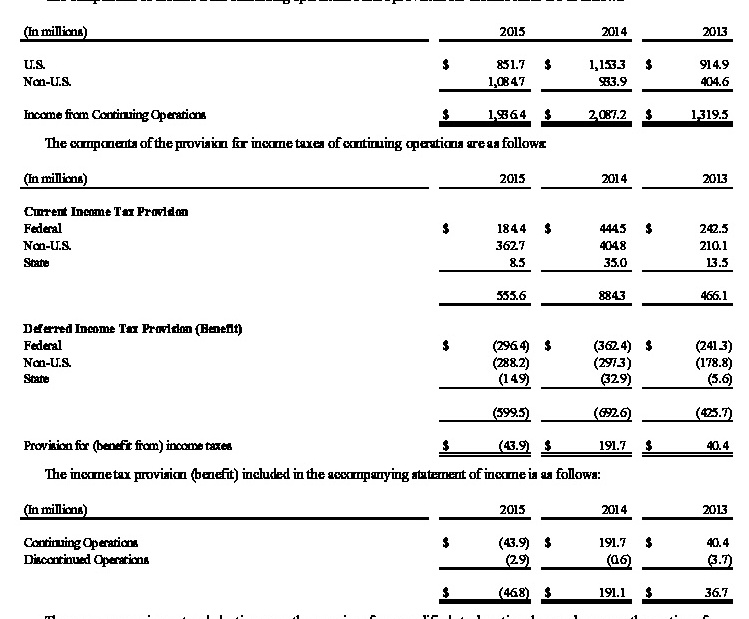table: (0, 0, 749, 619)
